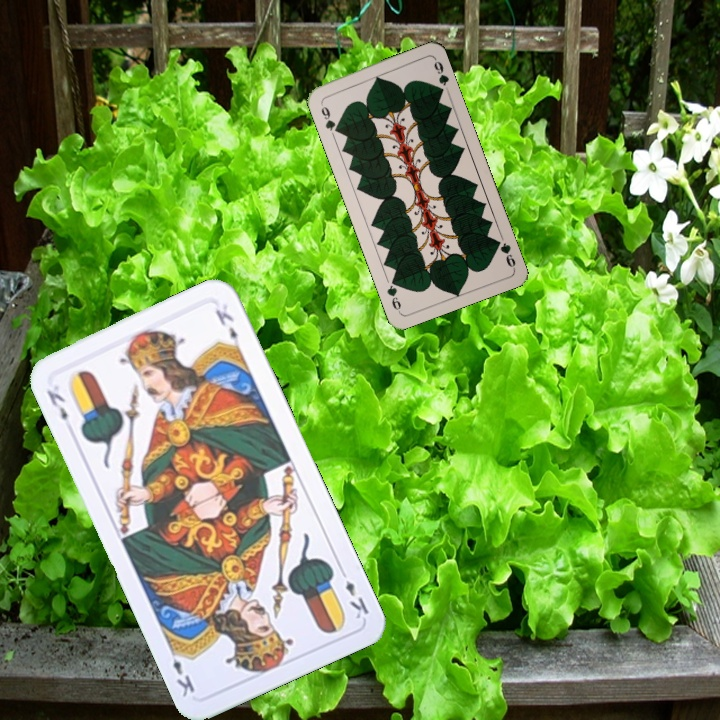EK: (335, 564, 372, 622), (42, 385, 70, 424)
G9: (490, 235, 518, 271), (316, 98, 342, 135)
